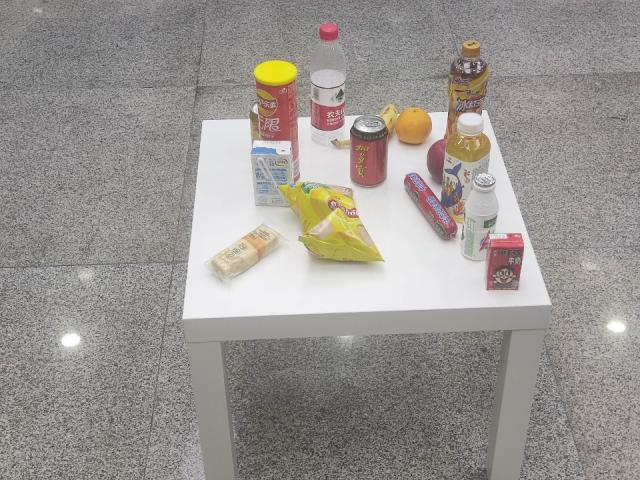Canned_drinks: (350, 114, 388, 187)
bottle: (301, 18, 349, 146)
cylinder: (250, 56, 310, 181)
drink_box: (248, 134, 302, 212), (482, 228, 529, 294)
